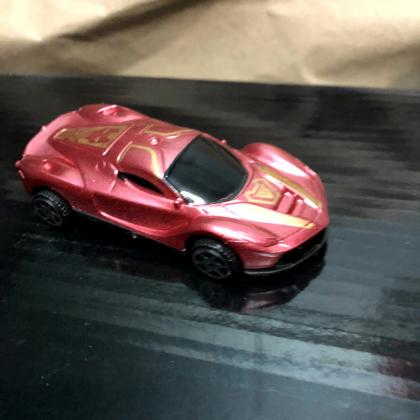Car: (15, 104, 330, 285)
